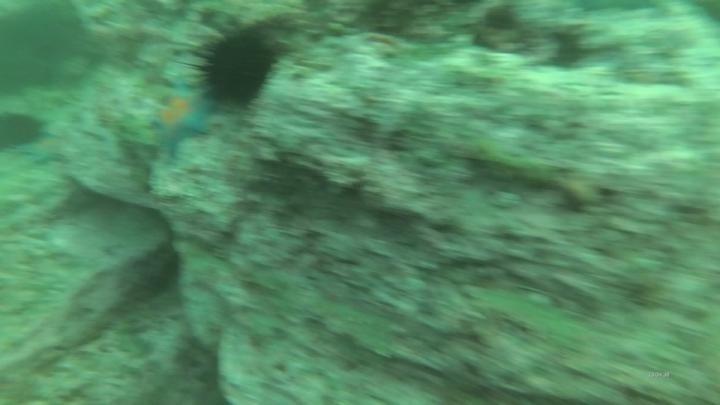echinus: (188, 21, 283, 113), (1, 108, 48, 153)
starfish: (147, 77, 219, 162), (14, 131, 71, 169)
